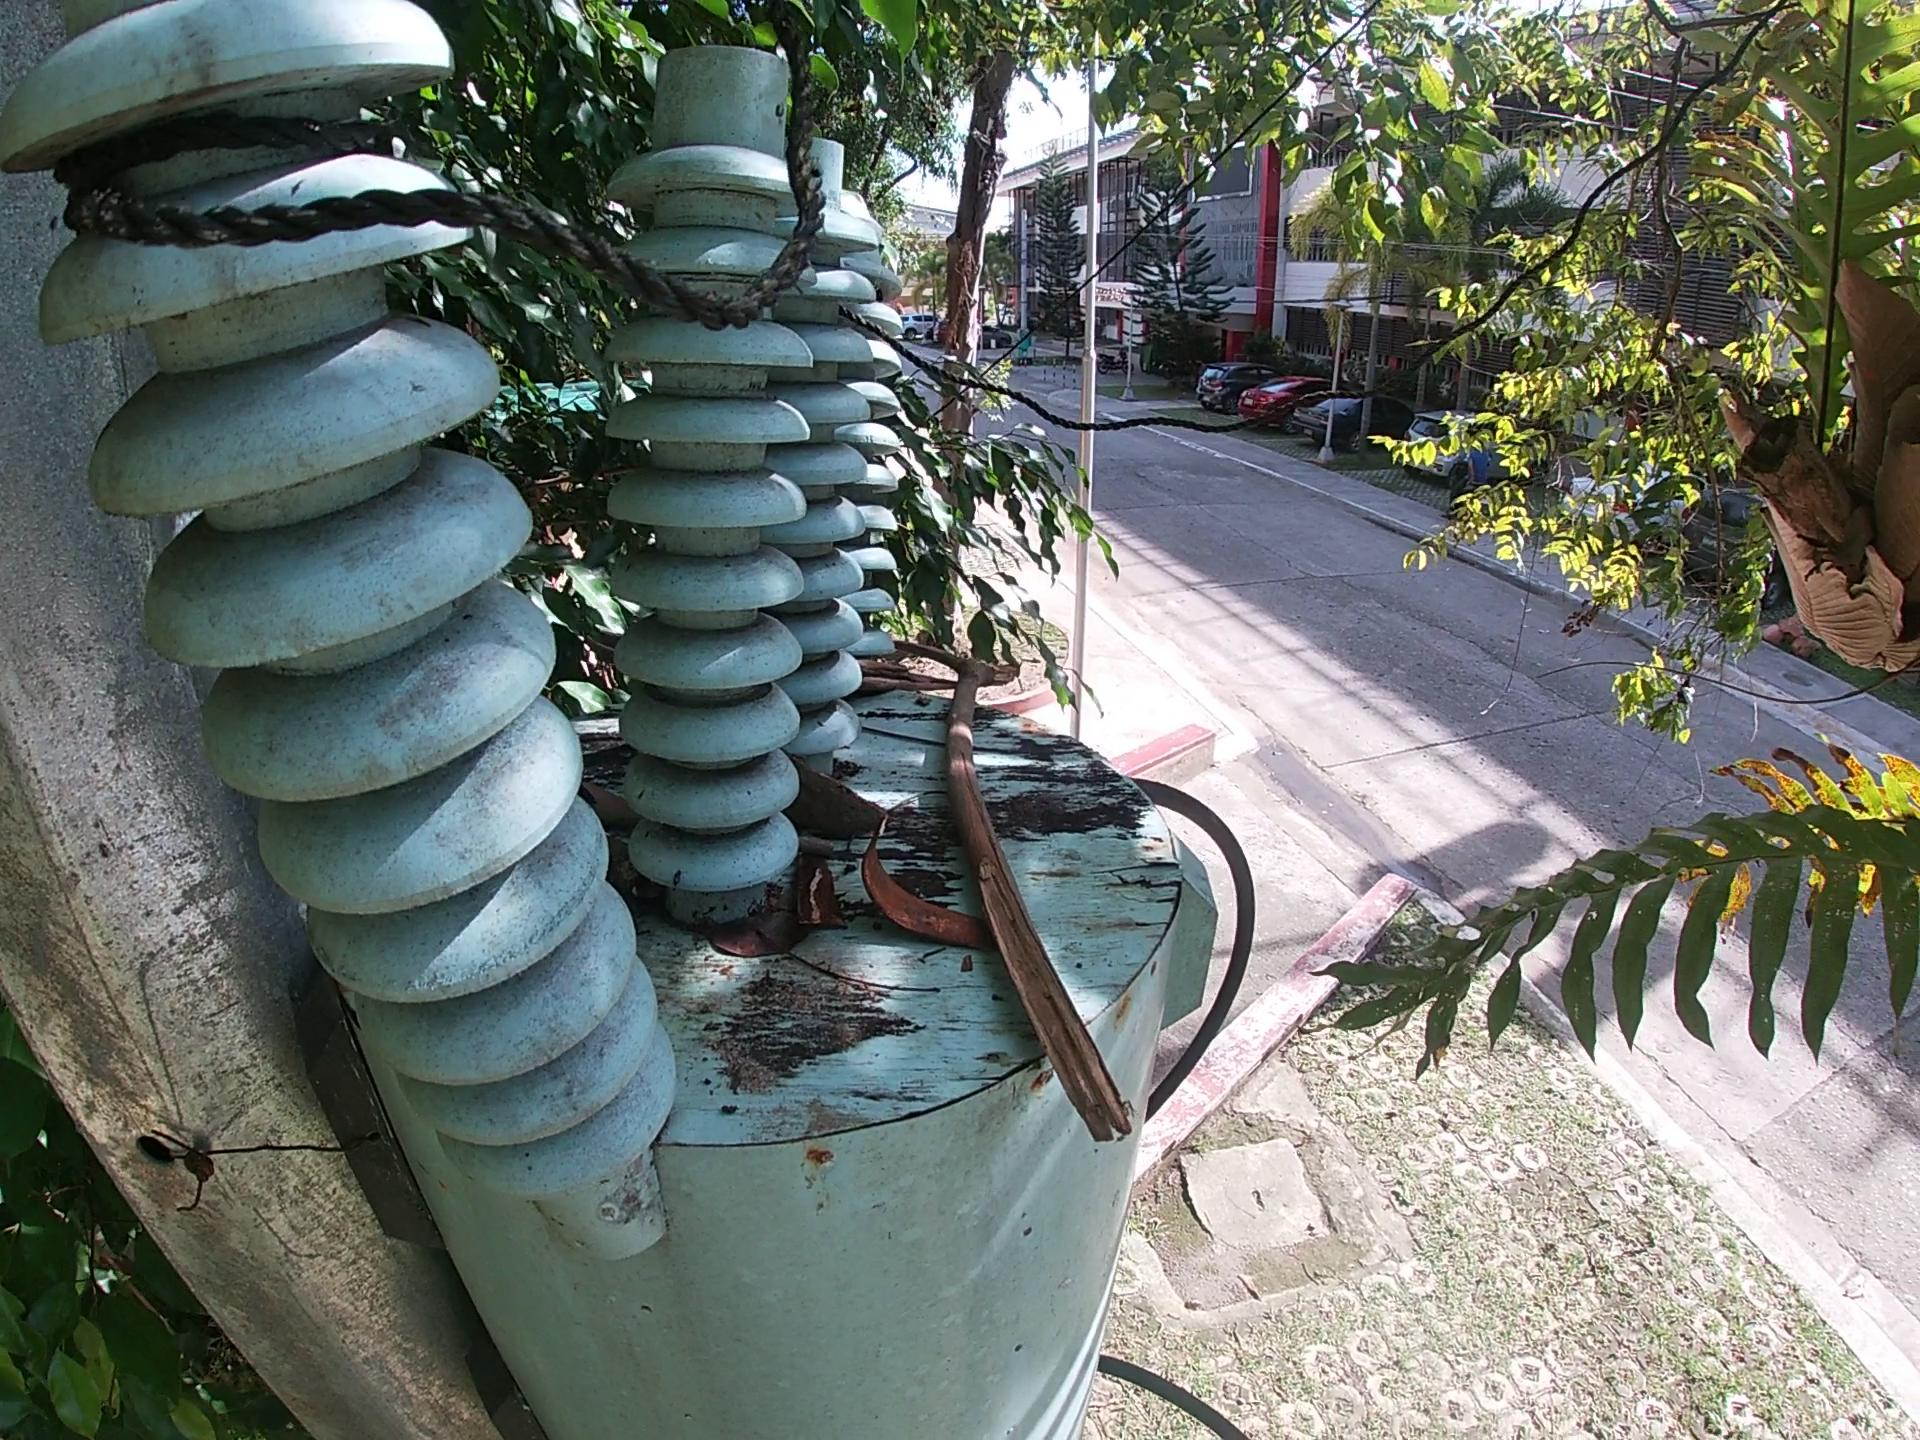leaf: (691, 895, 815, 967)
mahogany fruit: (859, 809, 999, 953), (780, 750, 890, 846), (789, 853, 842, 930)
tree branch: (886, 634, 1138, 1150), (851, 656, 958, 697), (795, 833, 838, 861)
